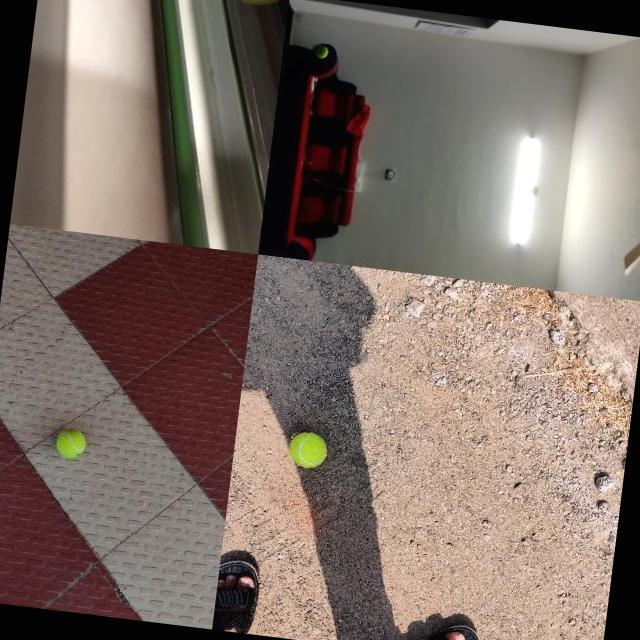Tennis Ball: (287, 430, 328, 470), (54, 427, 86, 459), (314, 44, 329, 59)
